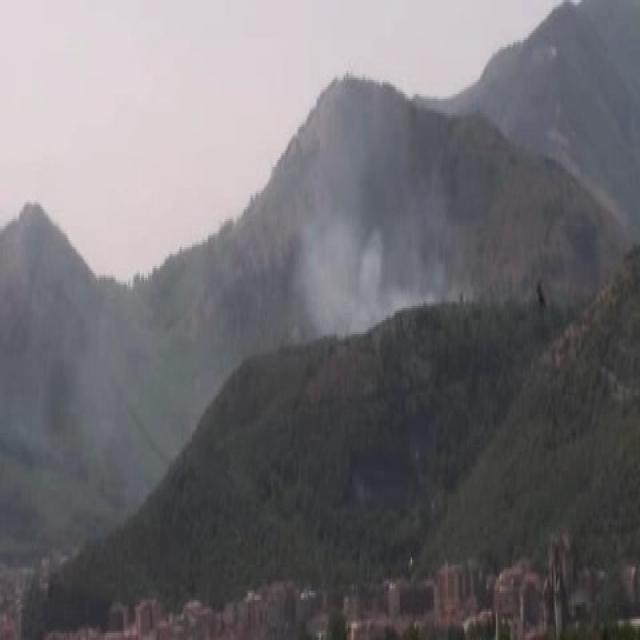smoke: (283, 139, 434, 336)
